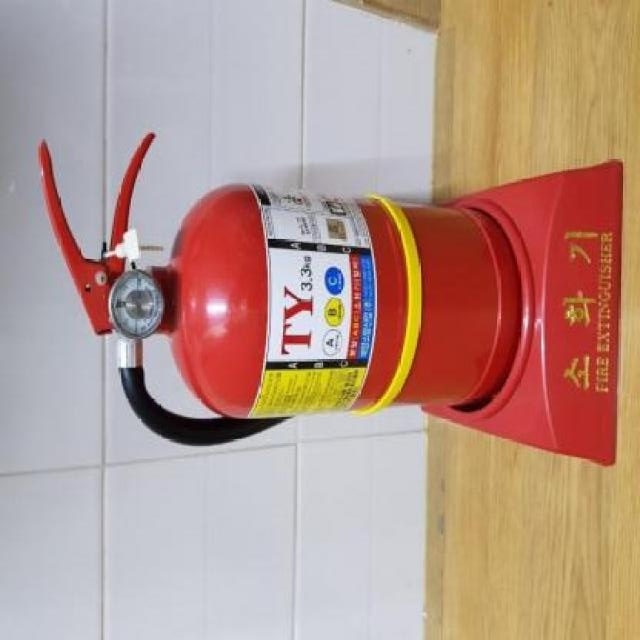fire extinguisher: (37, 132, 520, 446)
